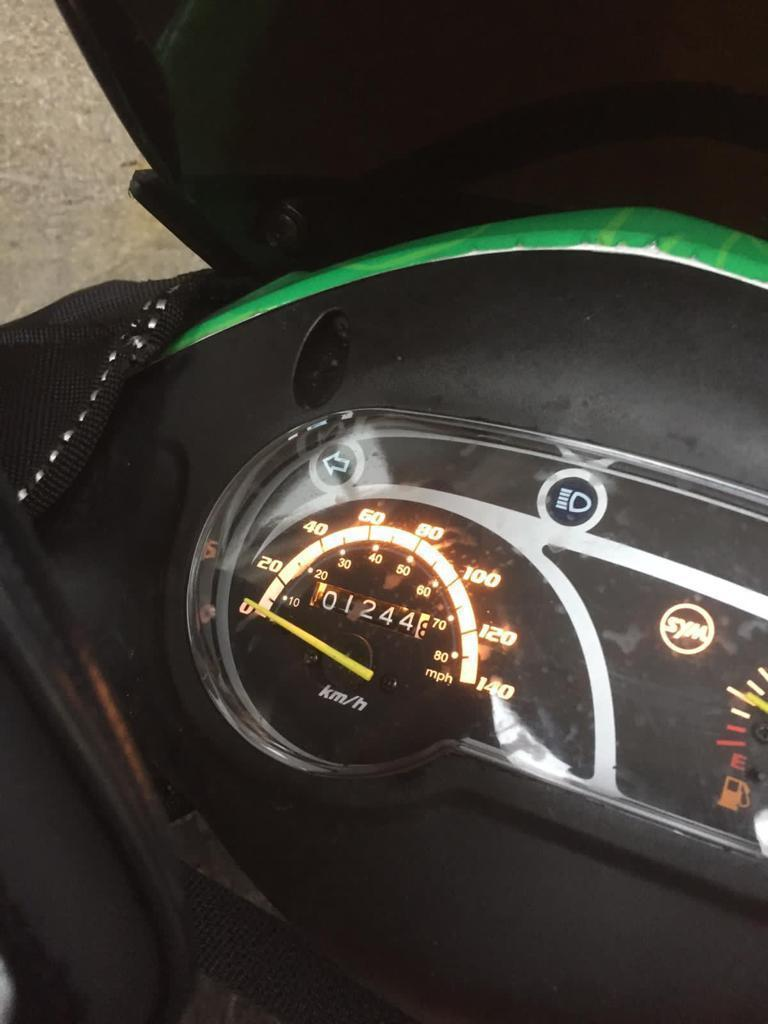0: (321, 588, 338, 612), (423, 586, 431, 598)
1: (342, 590, 355, 616)
2: (358, 595, 376, 622)
4: (378, 603, 395, 627), (397, 609, 415, 631)
6: (415, 583, 424, 596)
8: (418, 613, 431, 640)
odometer: (310, 579, 433, 643)
